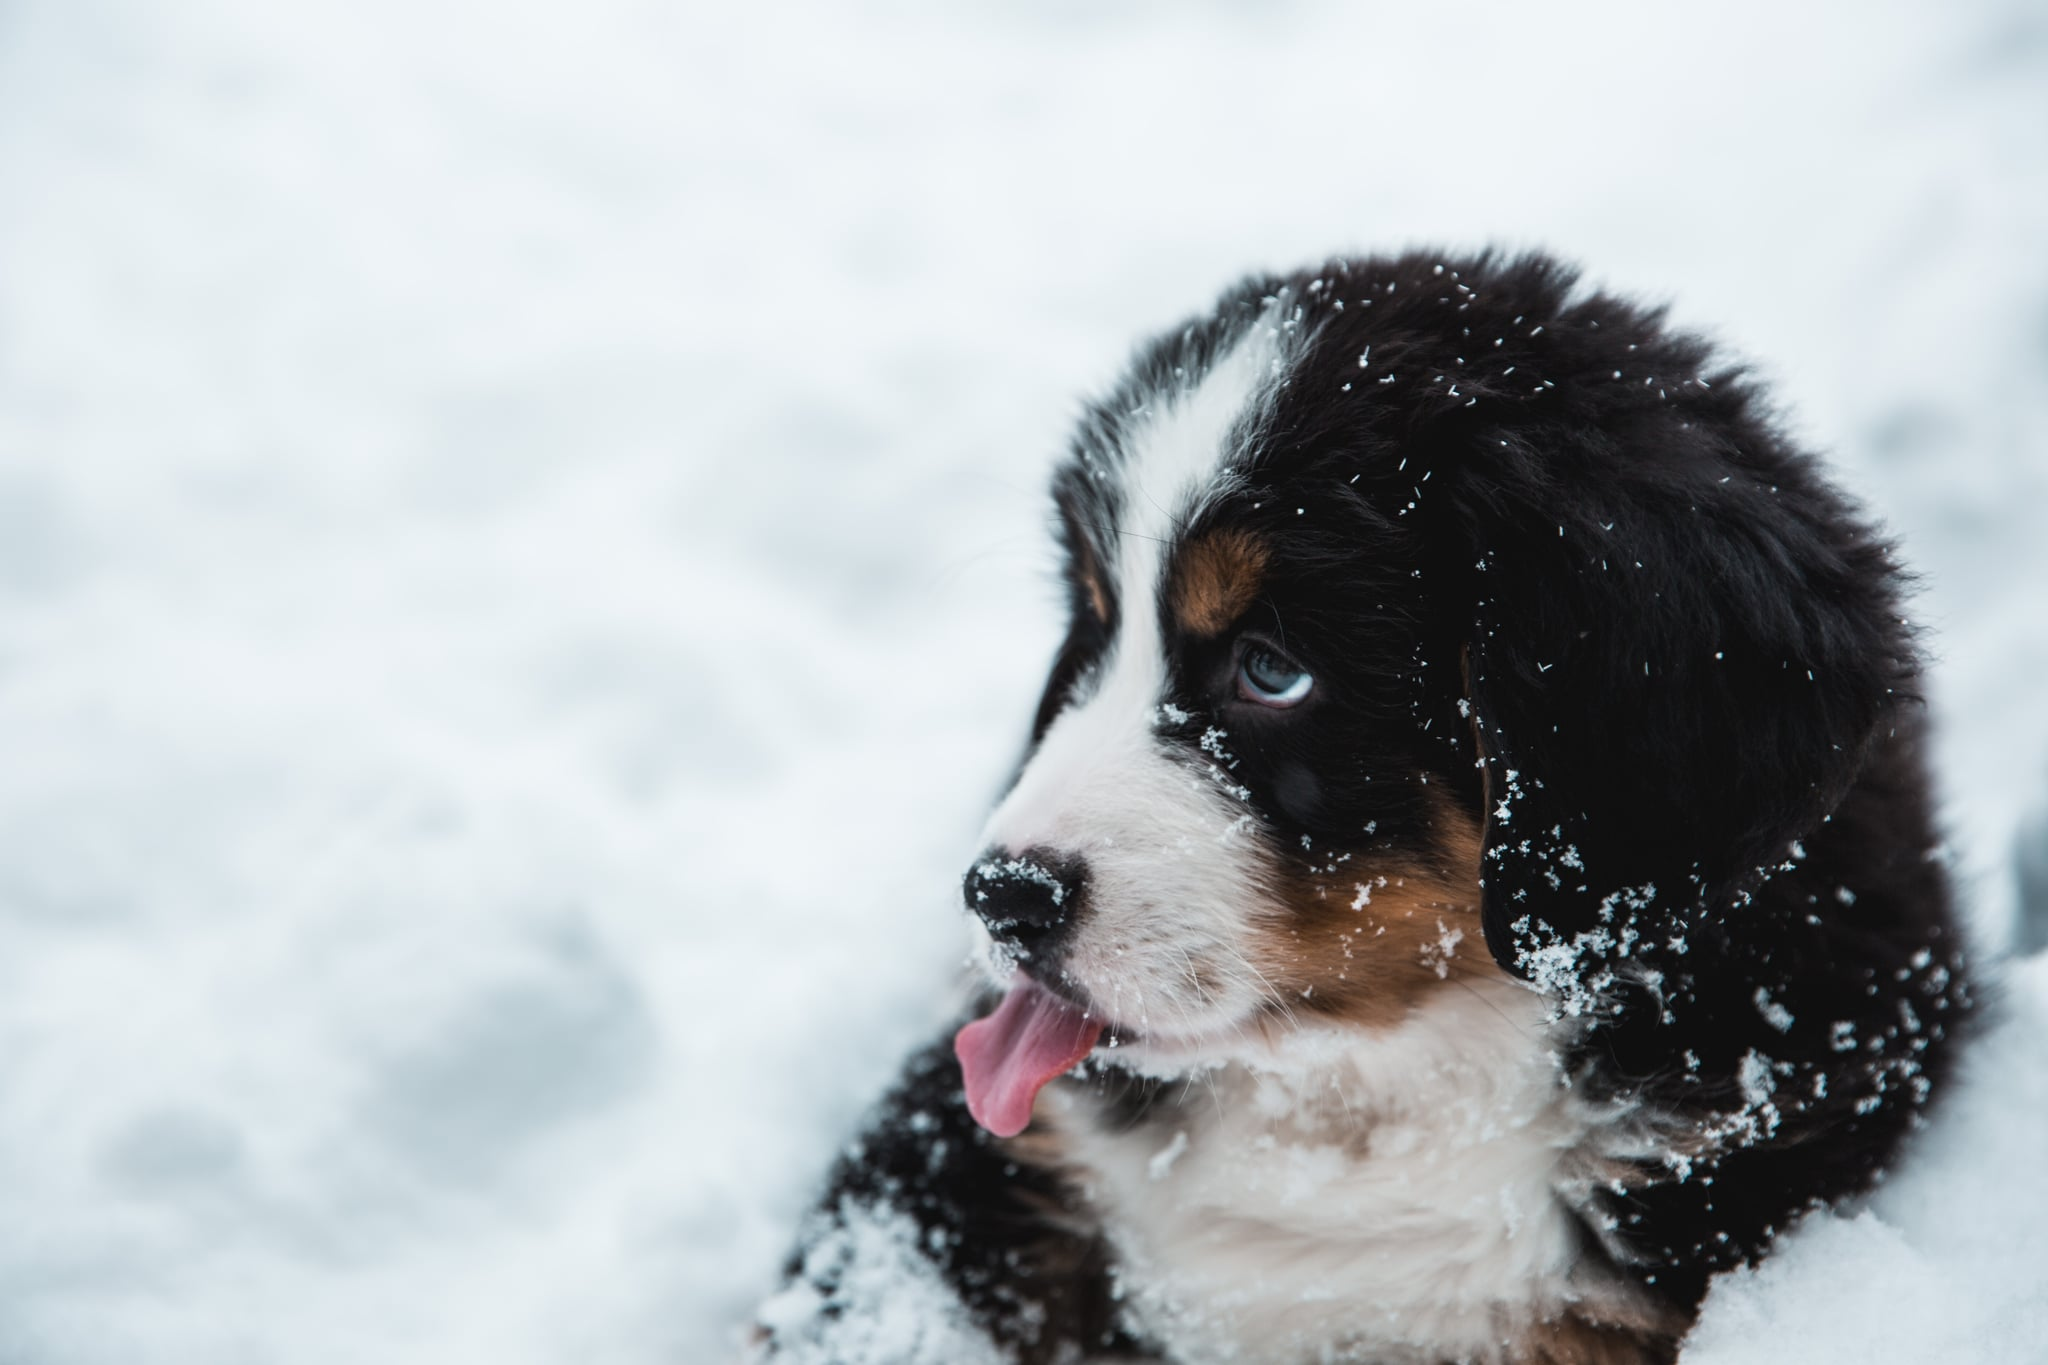dog: (840, 262, 2048, 1347)
